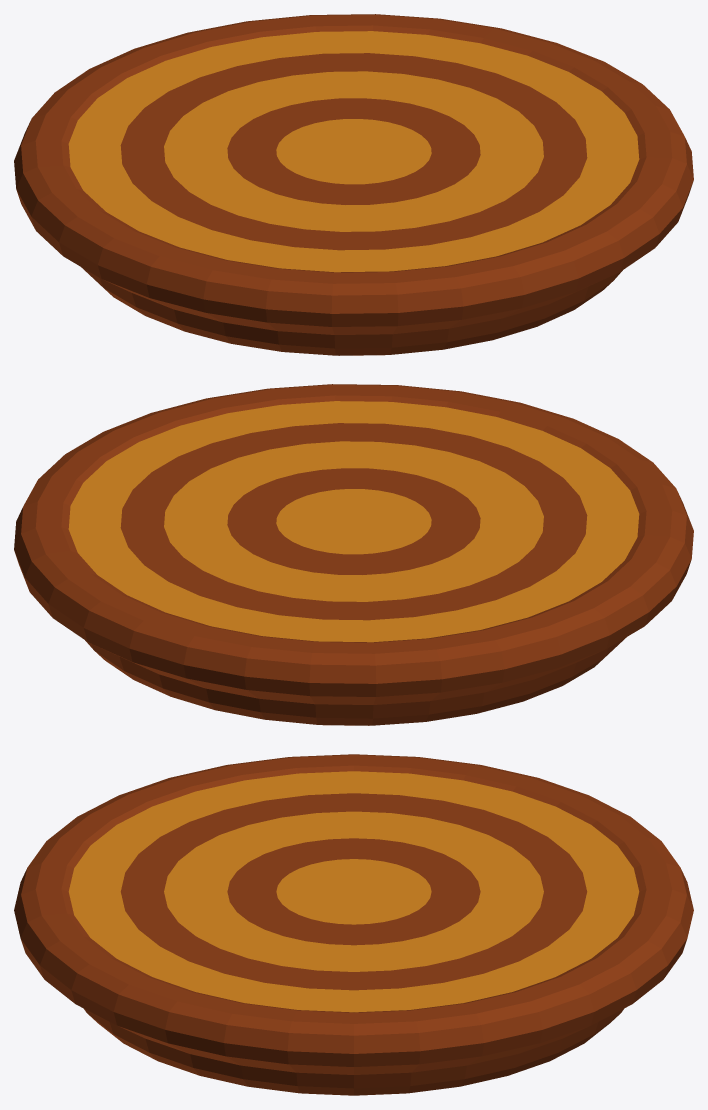
The model's file is jumppad.fbx.
The picture shows the model from 3 angles, top to bottom: view 1: azimuth 30°, elevation 25°; view 2: azimuth 150°, elevation 25°; view 3: azimuth 270°, elevation 25°; orthographic projection.
Parts seen in each view (by area): view 1: Cylinder; view 2: Cylinder; view 3: Cylinder.
Part boxes in pixels (<box>): Cylinder: <box>14,14,693,355</box>; Cylinder: <box>14,384,693,725</box>; Cylinder: <box>14,754,693,1095</box>.
Bounding box in the file's own units: 197 × 35.27 × 197.
